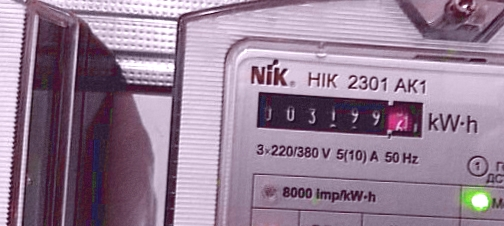0: (260, 102, 273, 123), (283, 102, 296, 122)
1: (327, 103, 338, 122)
3: (305, 106, 317, 125)
6: (394, 117, 405, 133)
9: (348, 105, 360, 125), (369, 107, 381, 126)
screen: (249, 87, 432, 146)
